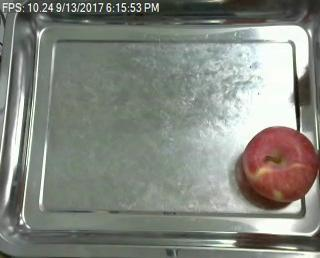apple: (241, 125, 319, 202)
